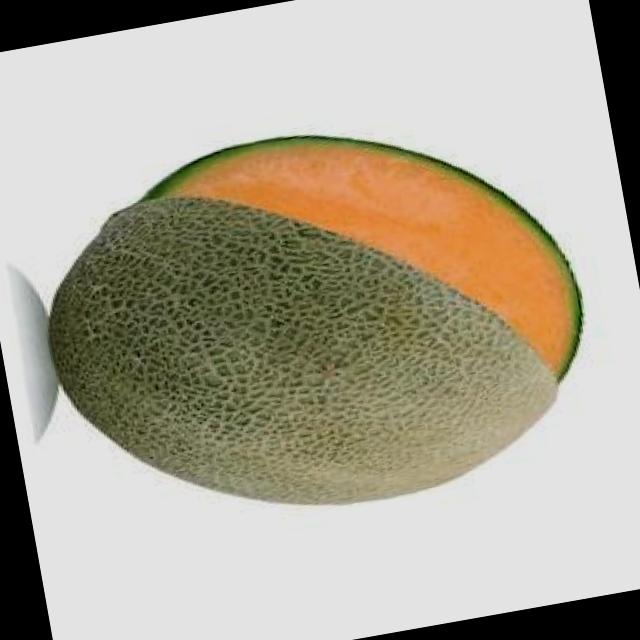cantaloupe: (22, 90, 610, 550)
